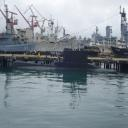submarine: (14, 51, 119, 74)
